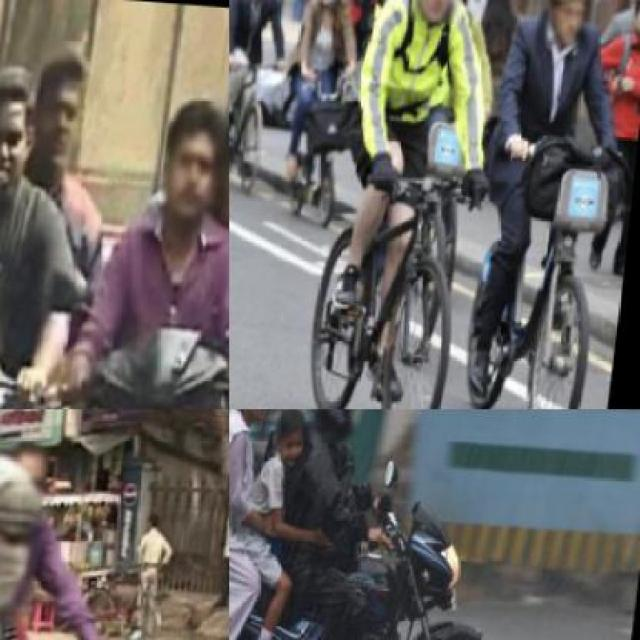With Helmet: (539, 0, 606, 42), (310, 409, 378, 445), (411, 0, 475, 22)
Without Helmet: (0, 435, 52, 626), (158, 91, 228, 231), (30, 34, 95, 183), (0, 58, 48, 194), (210, 81, 228, 234), (276, 409, 316, 454)
